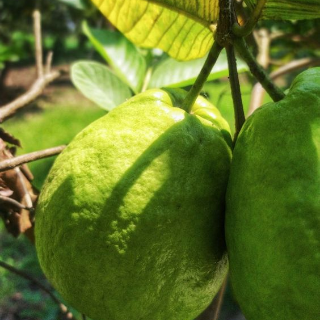oi: (34, 88, 232, 320)
